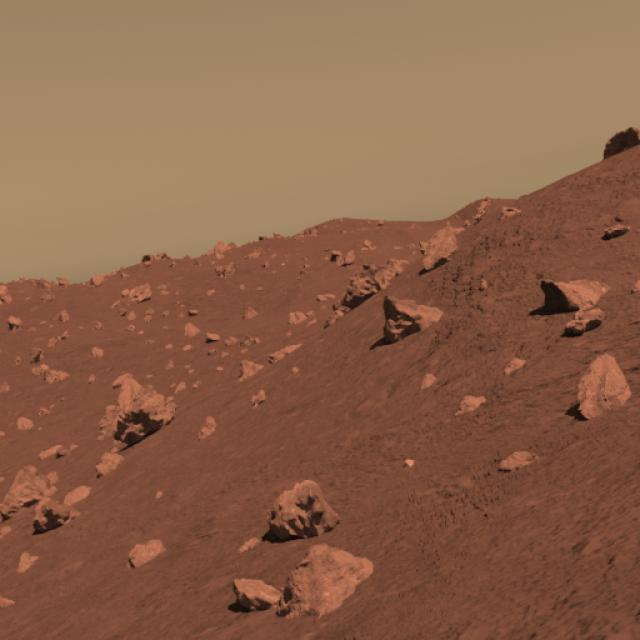rock: (286, 542, 368, 616), (564, 352, 635, 420), (268, 472, 337, 538), (107, 375, 173, 444)
